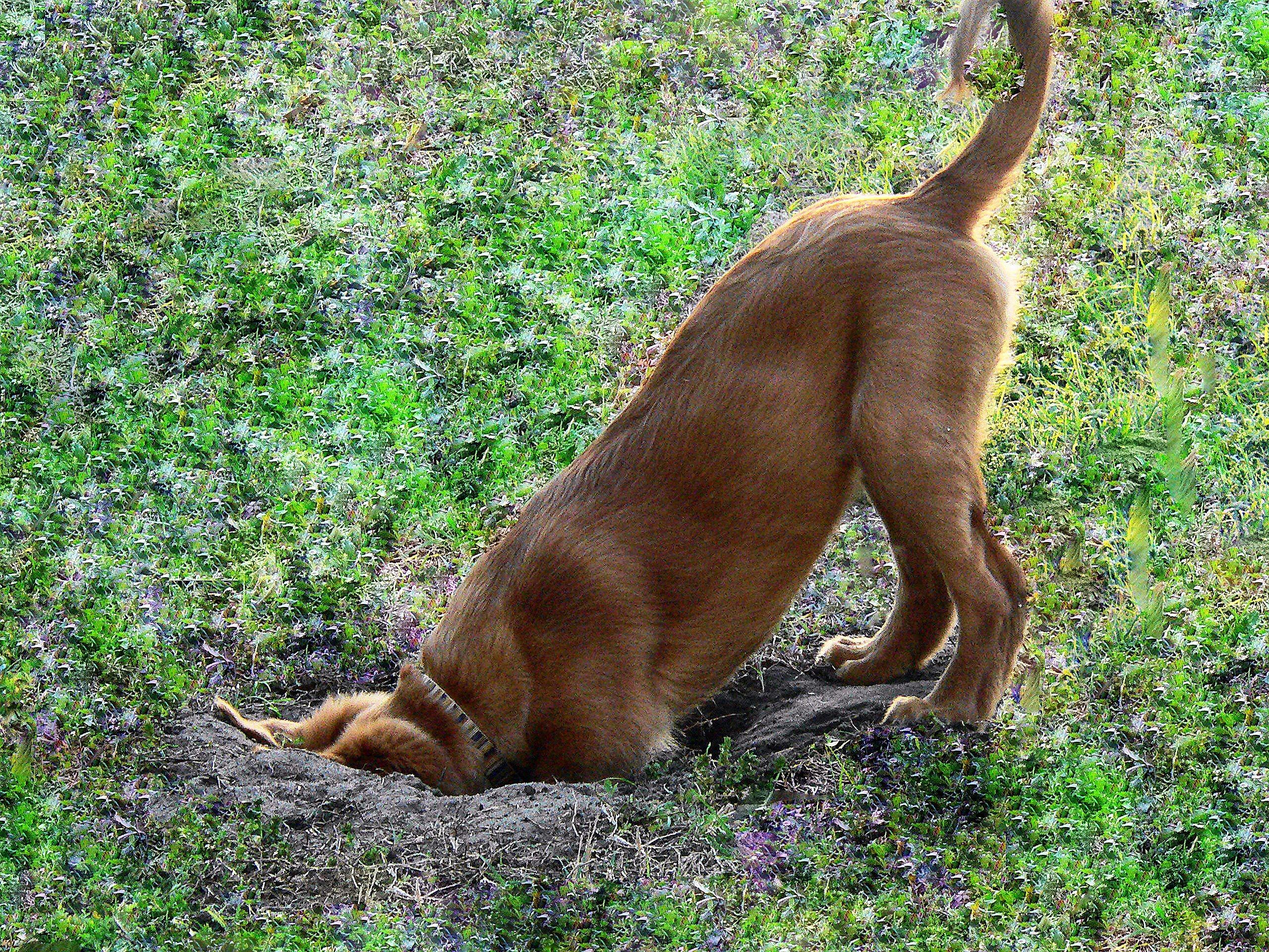adult_dog: (209, 0, 1060, 800)
